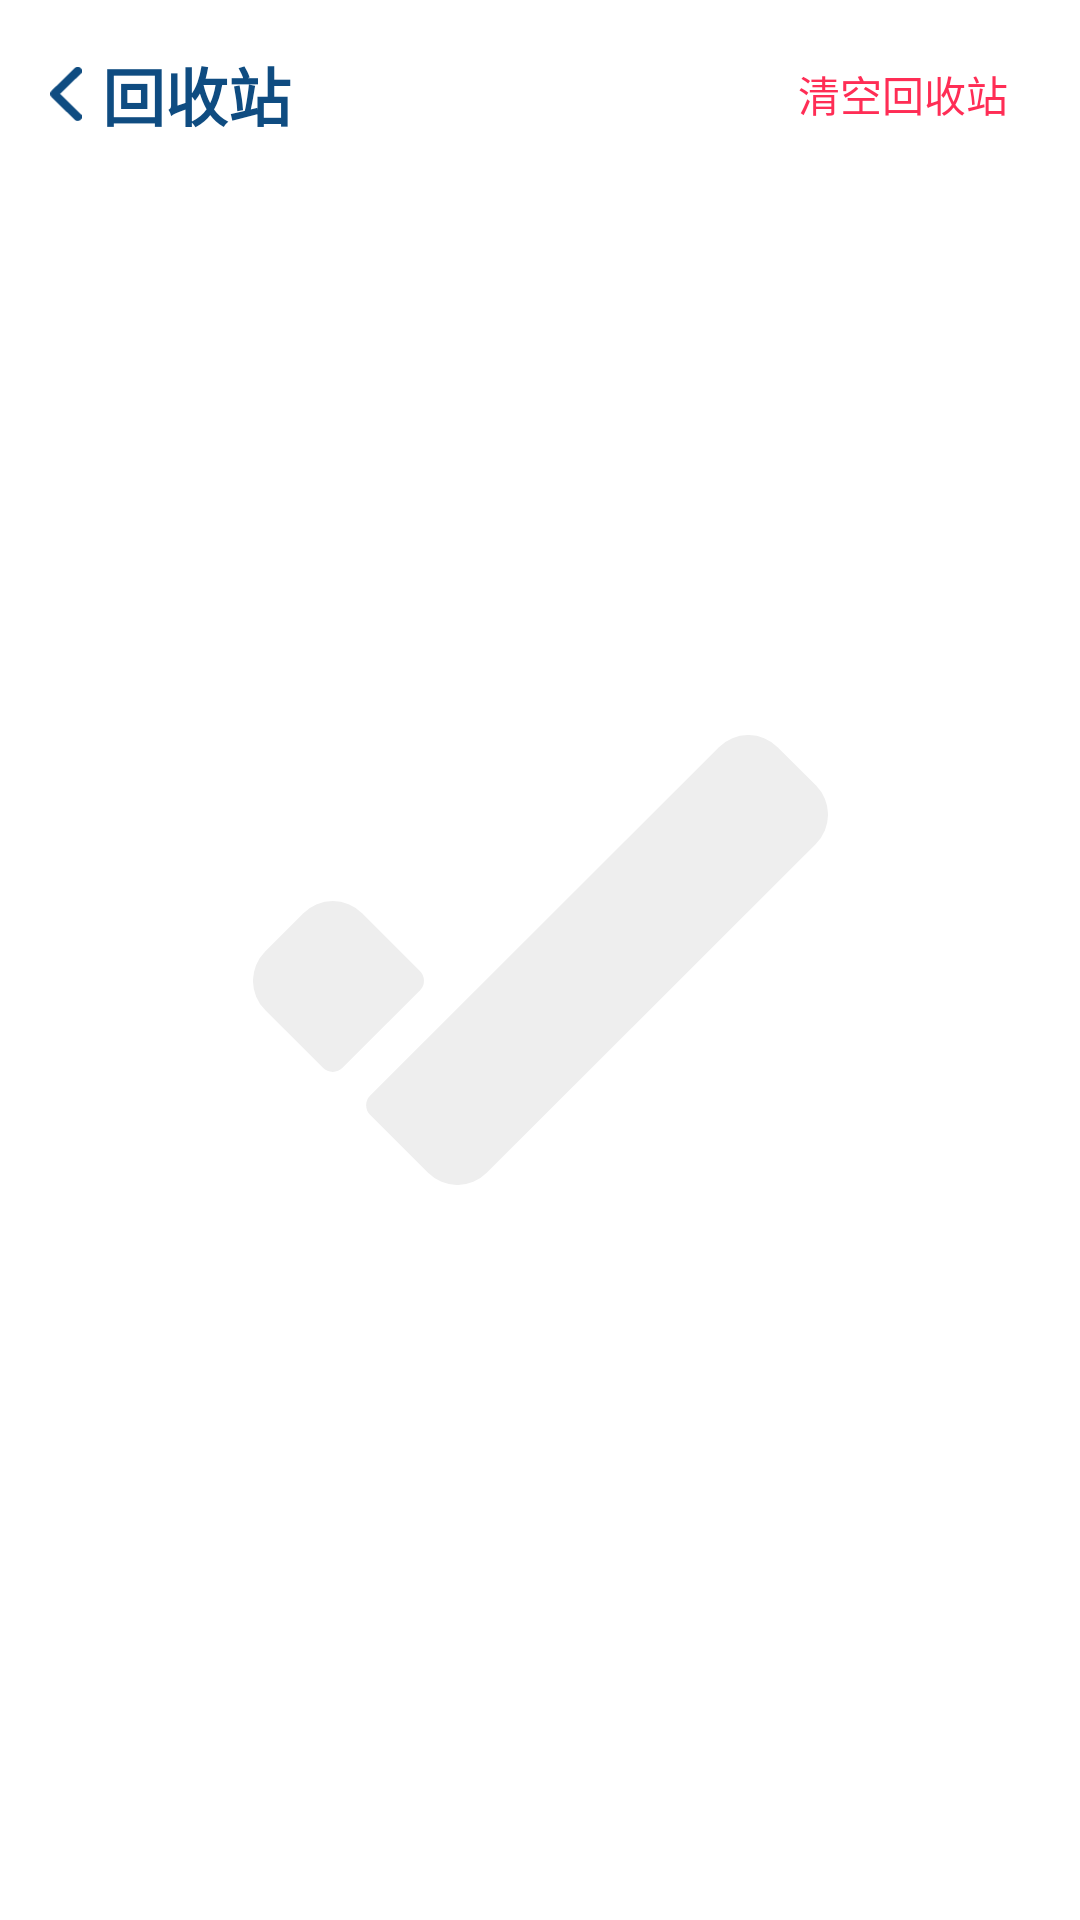

Icon click points for this 1080px×1920px phone screenshot, format [x,y]:
back: [66,94]
